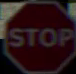Stop: (3, 13, 71, 59)
